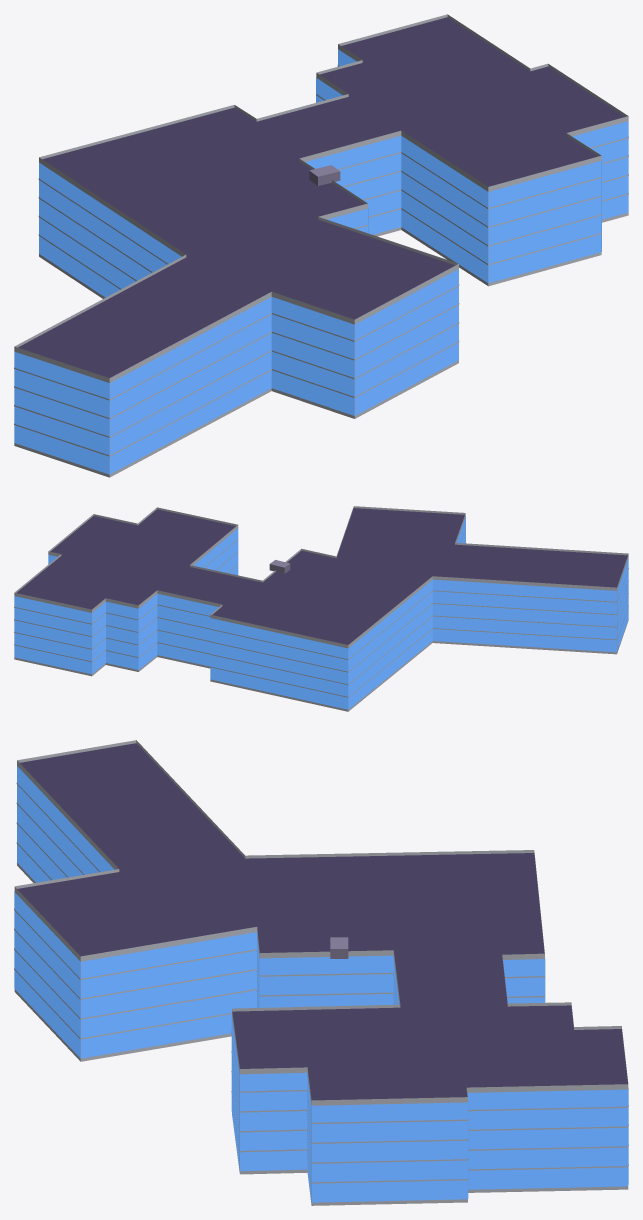
File: b-017-support-services-building.glb
The picture shows the model from 3 angles, top to bottom: view 1: azimuth 30°, elevation 25°; view 2: azimuth 150°, elevation 25°; view 3: azimuth 270°, elevation 25°; orthographic projection. The views are drawn at different scales.
Parts seen in each view (by area): view 1: campus/b-017-support-services-building-0; view 2: campus/b-017-support-services-building-0; view 3: campus/b-017-support-services-building-0.
Part boxes in pixels (<box>): campus/b-017-support-services-building-0: <box>14,14,628,477</box>; campus/b-017-support-services-building-0: <box>14,506,628,711</box>; campus/b-017-support-services-building-0: <box>14,740,628,1205</box>.
Bounding box in the file's own units: 141 × 20.4 × 101.
